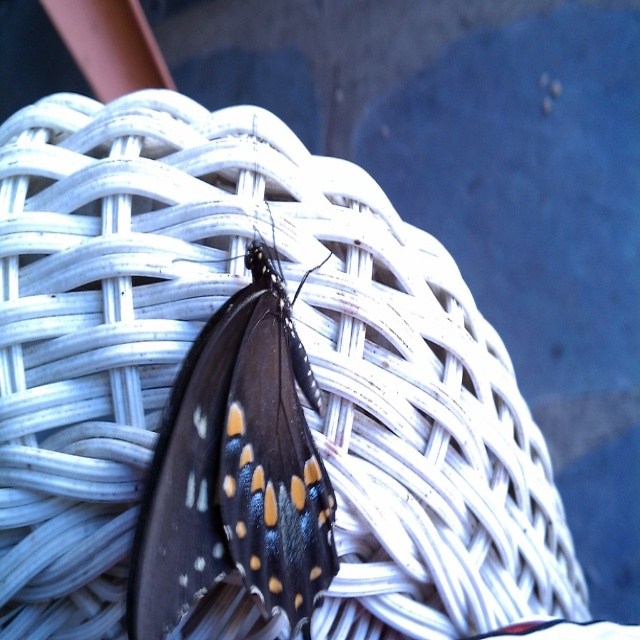Butterfly: (177, 195, 330, 626)
